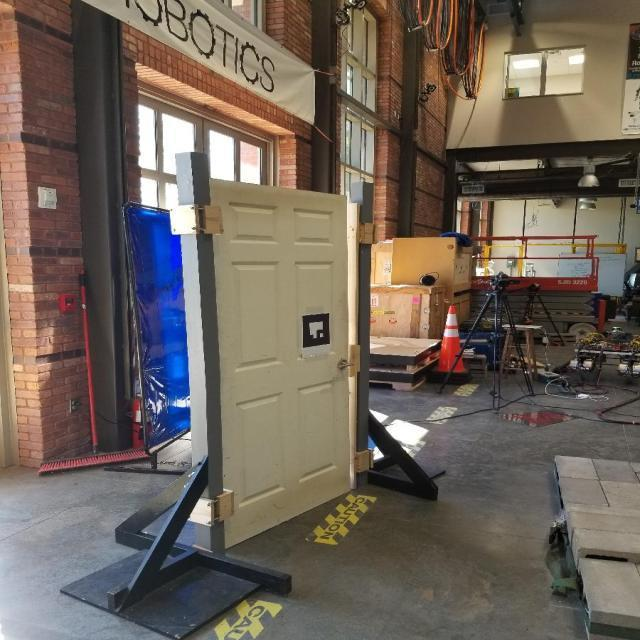door: (204, 174, 357, 550), (332, 357, 354, 374)
